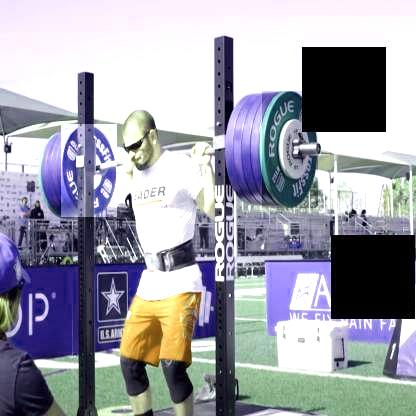barbell: (263, 91, 319, 209), (62, 125, 118, 217)
